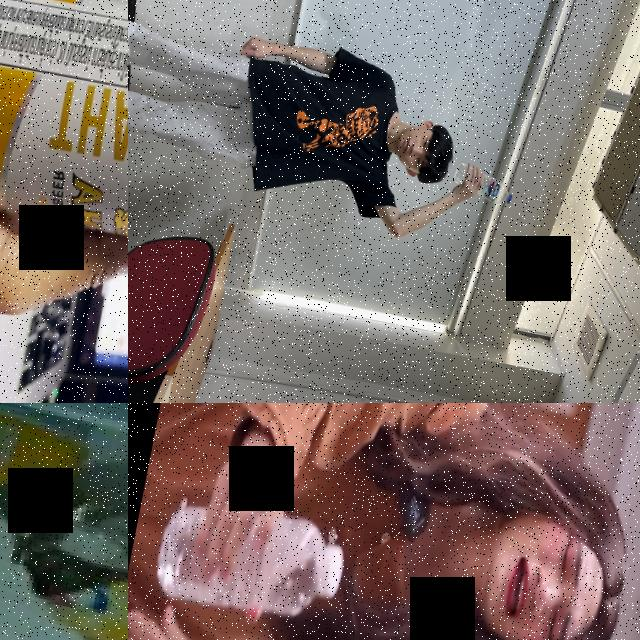bottle: (149, 493, 351, 631), (448, 160, 518, 208)
can: (0, 0, 128, 283)
